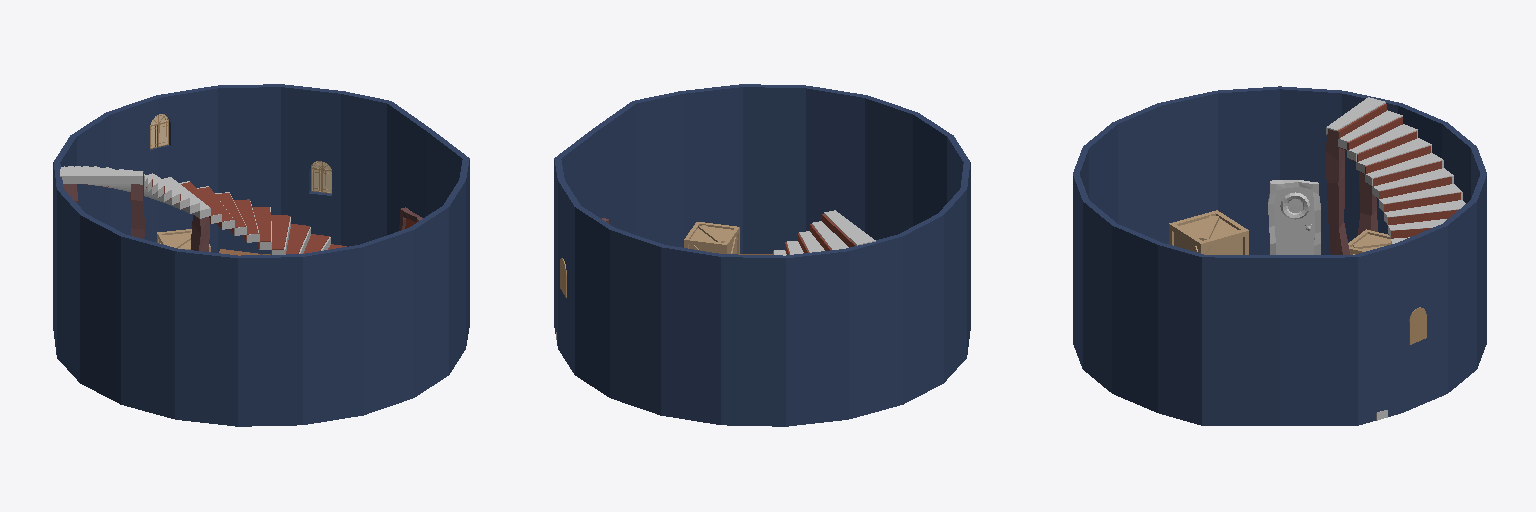
The picture shows the model from 3 angles: view 1: azimuth 30°, elevation 25°; view 2: azimuth 150°, elevation 25°; view 3: azimuth 270°, elevation 25°; orthographic projection.
Parts seen in each view (by area): view 1: pCylinder1, stairs, polySurface195_outline, pCube122, pCube135, pCube123; view 2: pCylinder1, polySurface195_outline, pCube137, stairs; view 3: pCylinder1, stairs, polySurface195_outline, polySurface1, pCube136, pCube138, pCube122.
Boxes of the visible parts, <box> form: pCylinder1: <box>53,84,469,426</box>; stairs: <box>63,171,346,254</box>; polySurface195_outline: <box>60,166,330,254</box>; pCube122: <box>311,161,331,193</box>; pCube135: <box>157,229,210,251</box>; pCube123: <box>150,114,168,148</box>; pCylinder1: <box>554,84,970,426</box>; polySurface195_outline: <box>556,210,875,339</box>; pCube137: <box>684,222,739,254</box>; stairs: <box>773,214,855,254</box>; pCylinder1: <box>1073,86,1486,425</box>; stairs: <box>1325,104,1460,254</box>; polySurface195_outline: <box>1326,97,1465,420</box>; polySurface1: <box>1268,180,1320,254</box>; pCube136: <box>1169,210,1248,254</box>; pCube138: <box>1348,229,1390,254</box>; pCube122: <box>1409,307,1426,344</box>.
Bounding box in the file's own units: 12.55 × 5.78 × 12.82.
Materials: 12 (8 with a texture image).